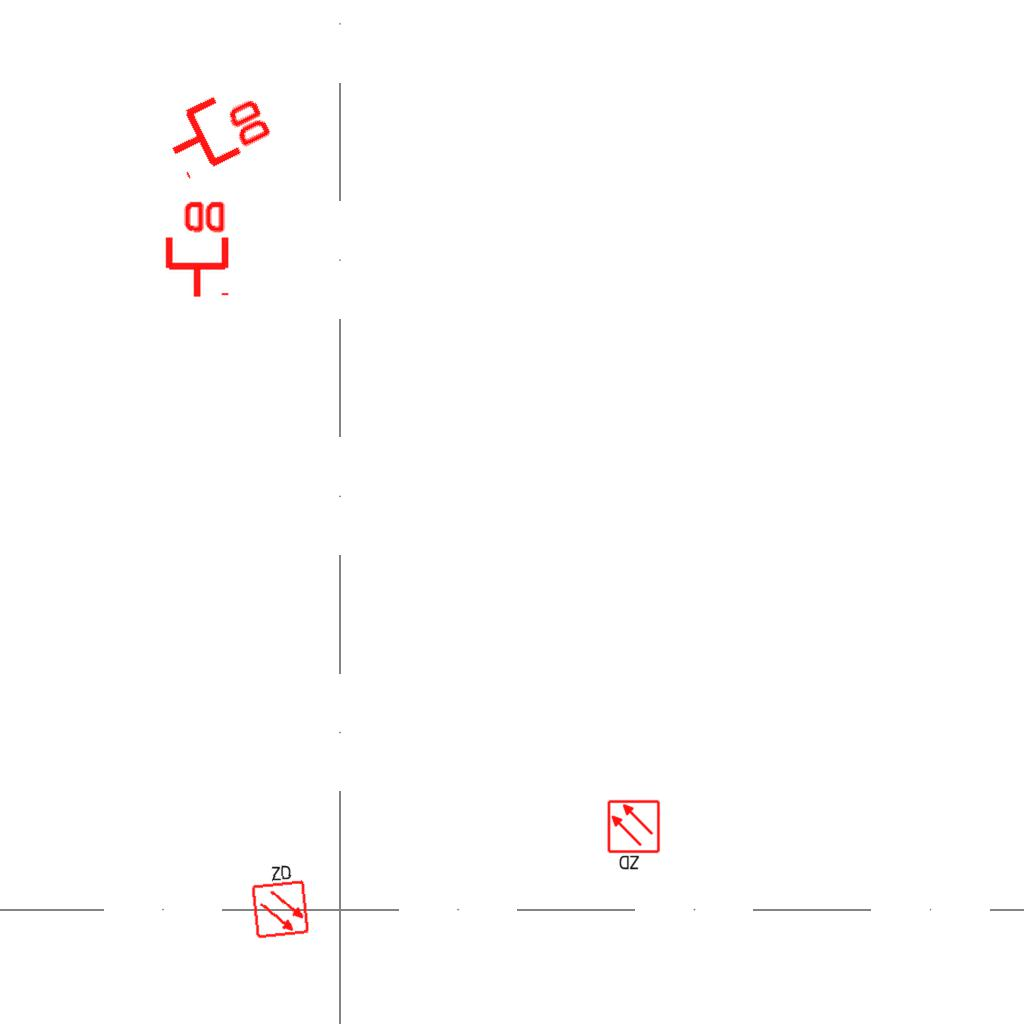Datenanschluss_zweifach: (155, 74, 278, 183), (161, 197, 230, 300)
ZD_Melder_in_Zwischendecke_mit_Revisionsoeffnung_mind_40_x_40_cm: (246, 860, 311, 940), (606, 799, 663, 873)
